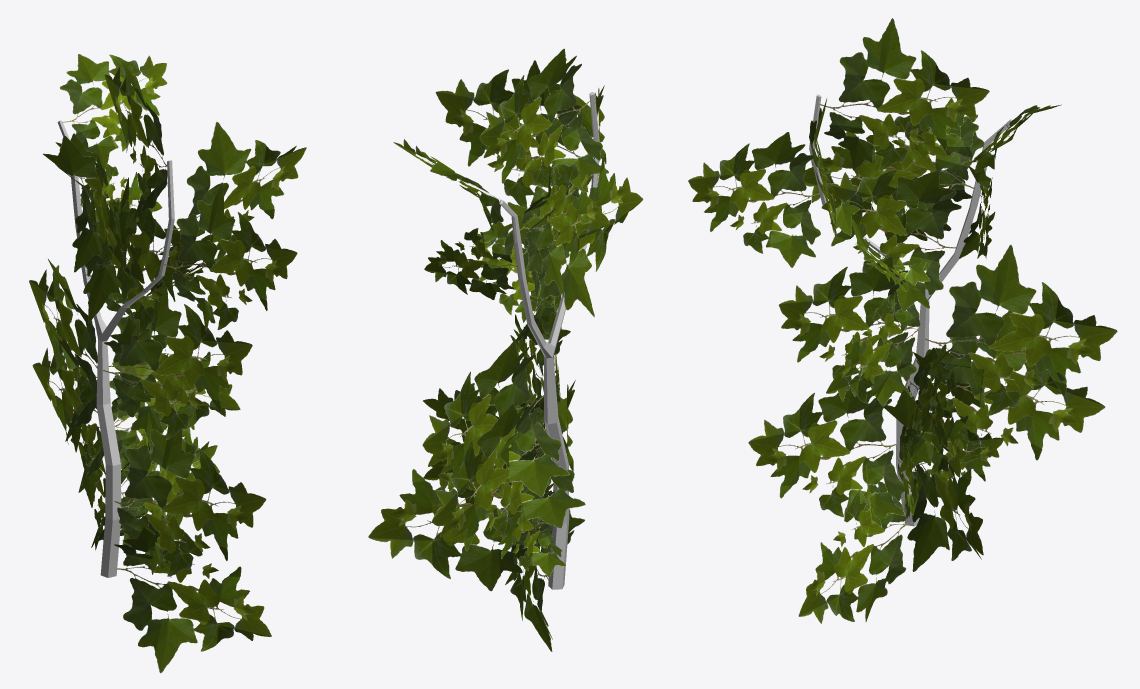
Rendered from vines.fbx.
3 renders of one model, left to right at view 1: azimuth 30°, elevation 25°; view 2: azimuth 150°, elevation 25°; view 3: azimuth 270°, elevation 25°, orthographic. The views are drawn at different scales.
Parts seen in each view (by area): view 1: Vine01|ivy_leaves|Dupli|4, Vine01|ivy_leaves|Dupli|, Vine01|ivy_leaves|Dupli|9, Vine01|ivy_leaves|Dupli|12, Vine01|ivy_leaves|Dupli|13, Vine01, Vine01|ivy_leaves|Dupli|17, Vine01|ivy_leaves|Dupli|18, Vine01|ivy_leaves|Dupli|5, Vine01|ivy_leaves|Dupli|10, Vine01|ivy_leaves|Dupli|14, Vine01|ivy_leaves|Dupli|8 (+9 smaller); view 2: Vine01|ivy_leaves|Dupli|10, Vine01|ivy_leaves|Dupli|5, Vine01|ivy_leaves|Dupli|14, Vine01|ivy_leaves|Dupli|2, Vine01|ivy_leaves|Dupli|13, Vine01|ivy_leaves|Dupli|17, Vine01, Vine01|ivy_leaves|Dupli|19, Vine01|ivy_leaves|Dupli|15, Vine01|ivy_leaves|Dupli|1, Vine01|ivy_leaves|Dupli|, Vine01|ivy_leaves|Dupli|16 (+9 smaller); view 3: Vine01|ivy_leaves|Dupli|10, Vine01|ivy_leaves|Dupli|14, Vine01|ivy_leaves|Dupli|4, Vine01|ivy_leaves|Dupli|12, Vine01|ivy_leaves|Dupli|16, Vine01|ivy_leaves|Dupli|5, Vine01|ivy_leaves|Dupli|9, Vine01|ivy_leaves|Dupli|, Vine01|ivy_leaves|Dupli|2, Vine01|ivy_leaves|Dupli|17, Vine01|ivy_leaves|Dupli|8, Vine01|ivy_leaves|Dupli|6 (+9 smaller).
Boxes of the visible parts, x1,y1,x2,y2 form: Vine01|ivy_leaves|Dupli|4: [114, 411, 266, 576]; Vine01|ivy_leaves|Dupli|: [114, 521, 271, 673]; Vine01|ivy_leaves|Dupli|9: [103, 281, 252, 439]; Vine01|ivy_leaves|Dupli|12: [164, 183, 297, 331]; Vine01|ivy_leaves|Dupli|13: [158, 122, 306, 272]; Vine01: [57, 120, 174, 577]; Vine01|ivy_leaves|Dupli|17: [43, 135, 146, 322]; Vine01|ivy_leaves|Dupli|18: [59, 54, 167, 169]; Vine01|ivy_leaves|Dupli|5: [32, 315, 104, 507]; Vine01|ivy_leaves|Dupli|10: [29, 259, 97, 452]; Vine01|ivy_leaves|Dupli|14: [104, 61, 167, 231]; Vine01|ivy_leaves|Dupli|8: [104, 317, 240, 450]; Vine01|ivy_leaves|Dupli|10: [422, 340, 569, 497]; Vine01|ivy_leaves|Dupli|5: [431, 400, 585, 551]; Vine01|ivy_leaves|Dupli|14: [479, 48, 608, 190]; Vine01|ivy_leaves|Dupli|2: [368, 429, 551, 591]; Vine01|ivy_leaves|Dupli|13: [435, 60, 583, 212]; Vine01|ivy_leaves|Dupli|17: [523, 156, 643, 317]; Vine01: [499, 92, 599, 589]; Vine01|ivy_leaves|Dupli|19: [519, 166, 609, 297]; Vine01|ivy_leaves|Dupli|15: [424, 221, 517, 299]; Vine01|ivy_leaves|Dupli|1: [492, 483, 565, 577]; Vine01|ivy_leaves|Dupli|: [505, 509, 584, 651]; Vine01|ivy_leaves|Dupli|16: [507, 188, 561, 344]; Vine01|ivy_leaves|Dupli|10: [925, 244, 1117, 415]; Vine01|ivy_leaves|Dupli|14: [818, 18, 989, 170]; Vine01|ivy_leaves|Dupli|4: [748, 375, 904, 526]; Vine01|ivy_leaves|Dupli|12: [688, 132, 820, 267]; Vine01|ivy_leaves|Dupli|16: [821, 169, 961, 312]; Vine01|ivy_leaves|Dupli|5: [915, 310, 1105, 463]; Vine01|ivy_leaves|Dupli|9: [778, 256, 916, 406]; Vine01|ivy_leaves|Dupli|: [798, 464, 912, 623]; Vine01|ivy_leaves|Dupli|2: [879, 389, 983, 571]; Vine01|ivy_leaves|Dupli|17: [803, 114, 983, 243]; Vine01|ivy_leaves|Dupli|8: [826, 291, 924, 404]; Vine01|ivy_leaves|Dupli|6: [898, 347, 968, 477].
Size of the model in its own units: 220 by 324 by 117.
